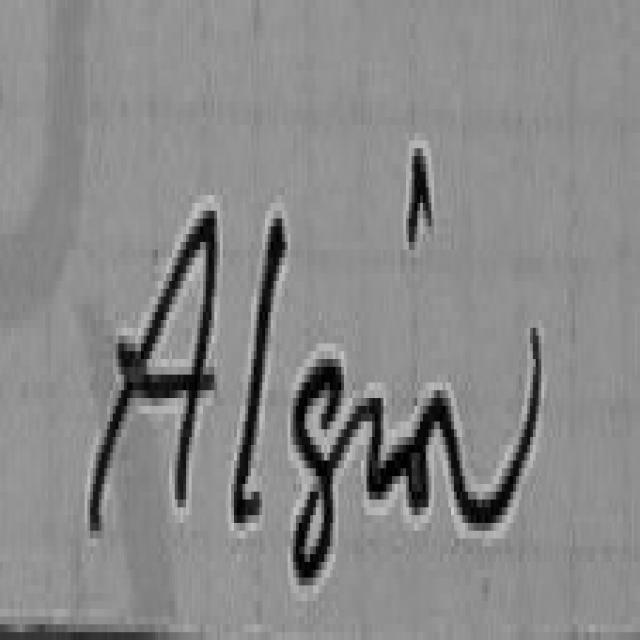A: (74, 105, 228, 581)
g: (282, 292, 354, 600)
i: (357, 127, 459, 574)
l: (230, 174, 286, 538)
n: (402, 322, 562, 570)
